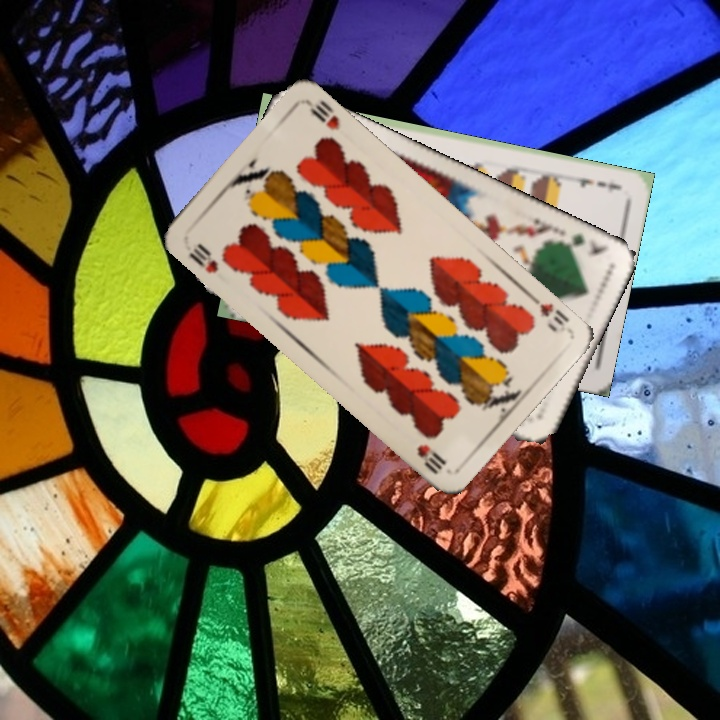E7: (566, 171, 625, 193)
GK: (552, 229, 610, 260)
H10: (524, 290, 572, 335), (184, 239, 222, 276)
